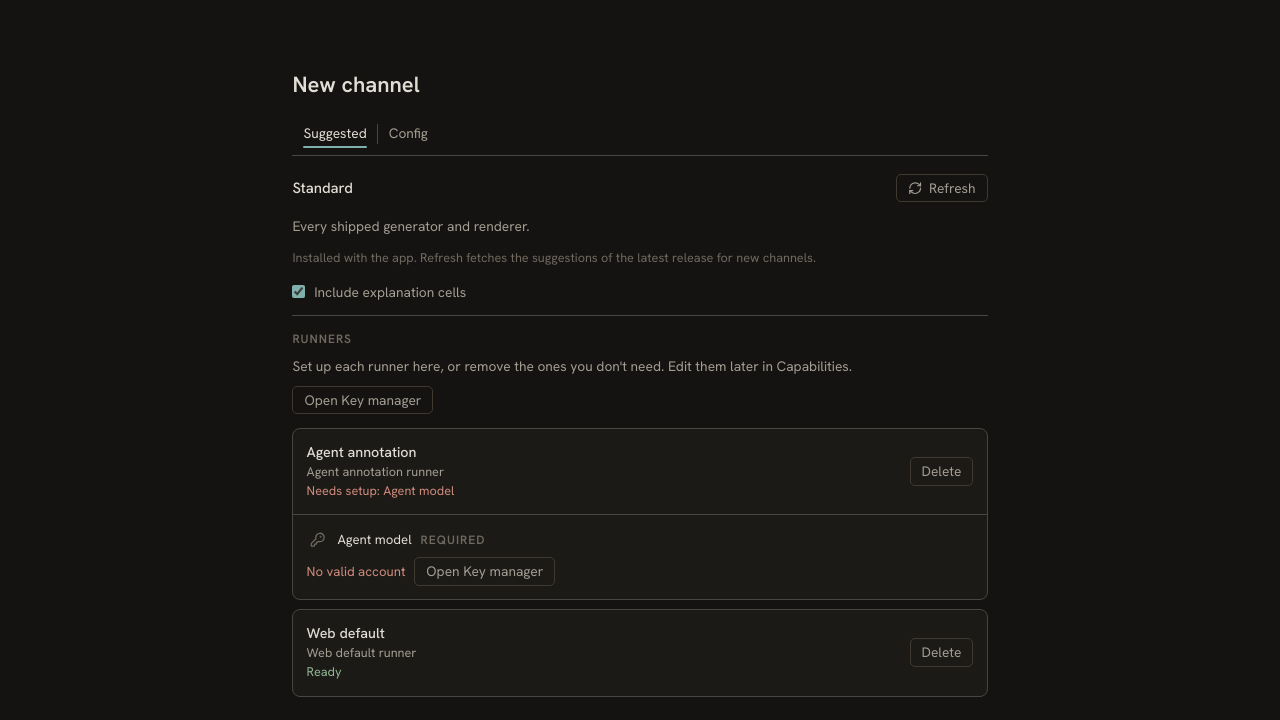
it: New channel: Suggested › reads the catalog from a folder, keeps that row while it does, and stops using it
Expected: the text "Agent annotation" is shown, [307,443,416,461]
Press Space in the button "Refresh", box [896,174,988,202]
Wait 5000 ms
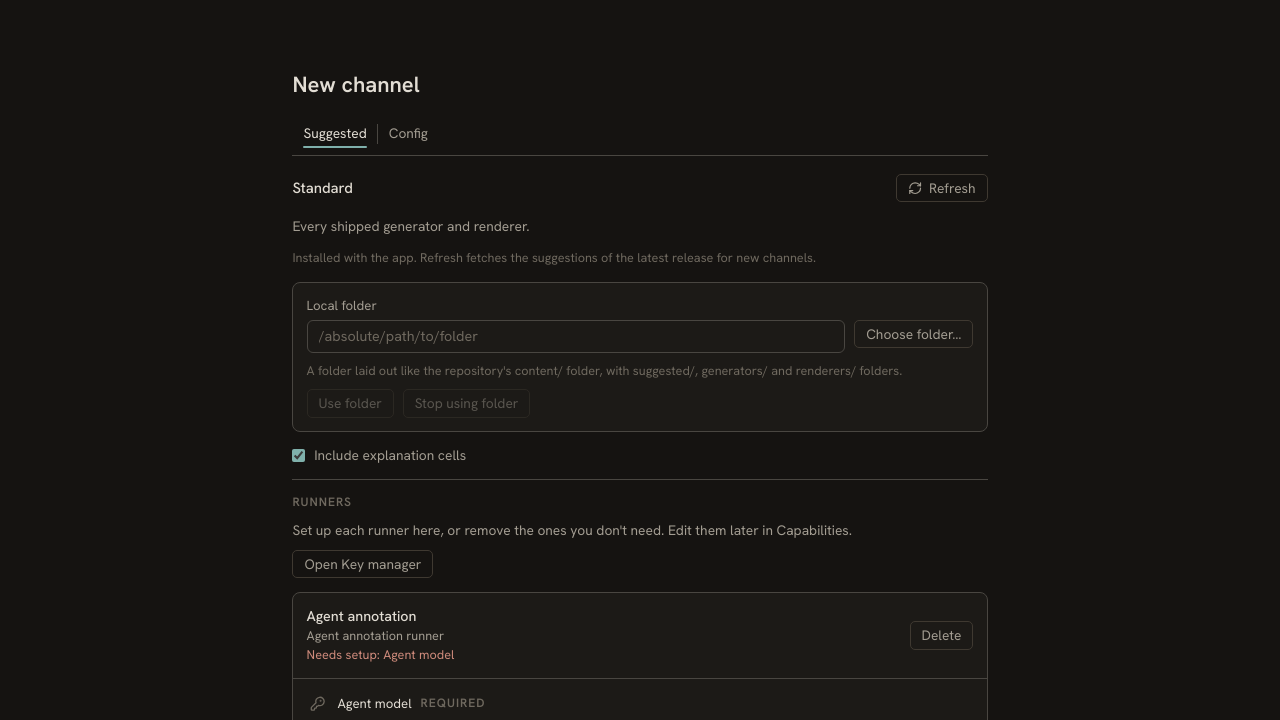
Expected: the button "Use folder" is disabled, [307,390,394,418]
Click the button "Choose folder…" at x=914, y=334, box [854,320,973,348]
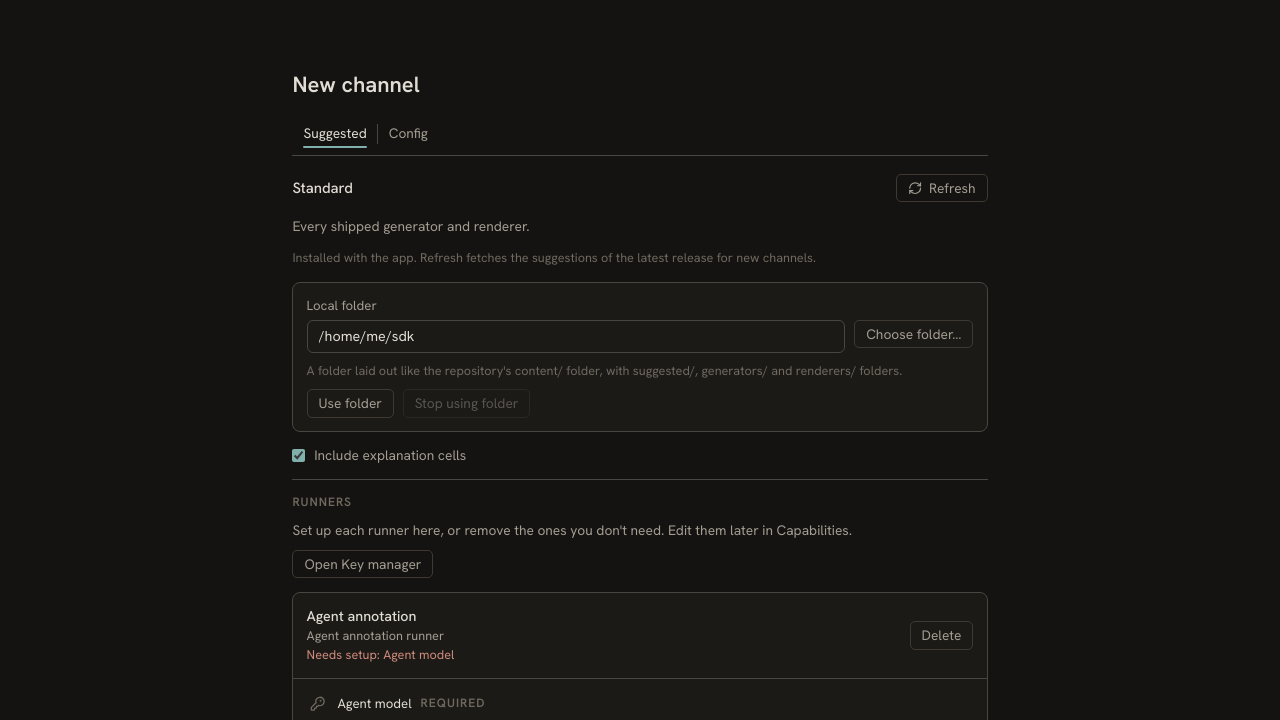
Expected: the field labelled "Local folder" holds "/home/me/sdk", [307,320,845,353]
Click the button "Use folder" at x=350, y=404, box [307,390,394,418]
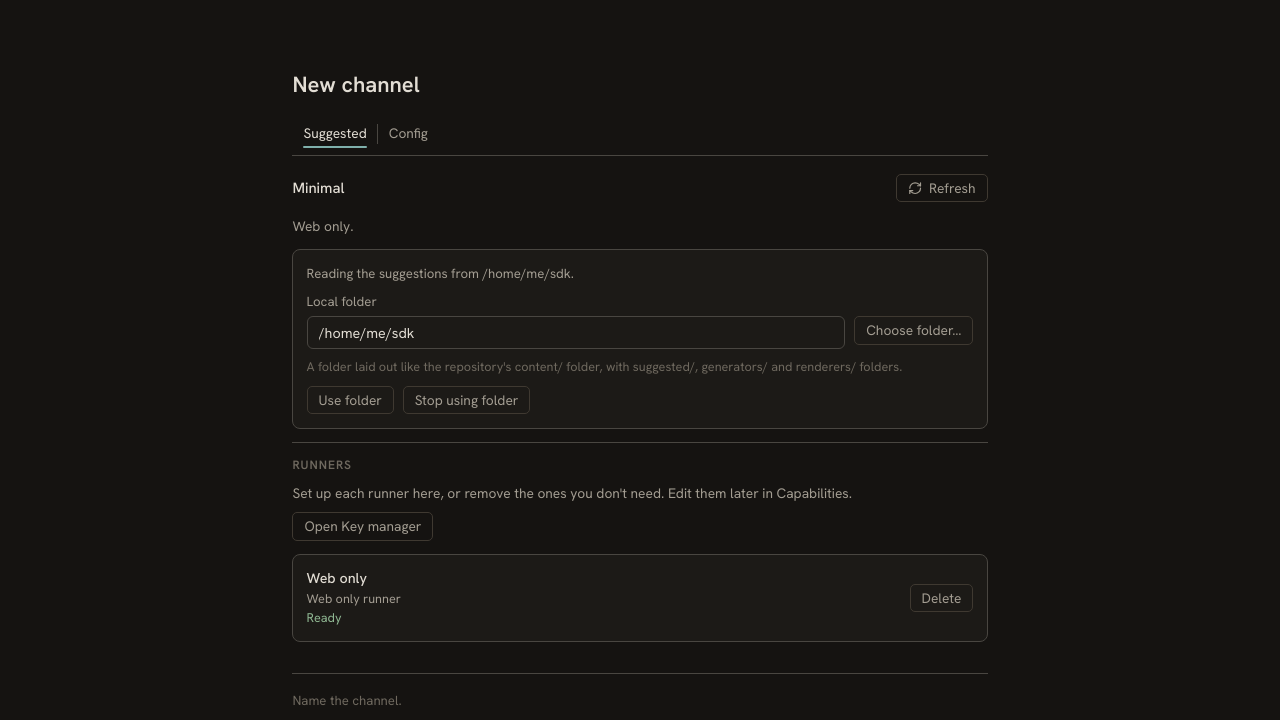
Expected: the text "Web only" is shown, [307,569,367,587]
Expected: the text "Reading the suggestions from /home/me/sdk." is shown, [307,264,574,282]
Click the button "Stop using folder" at x=467, y=400, box [403,386,530,414]
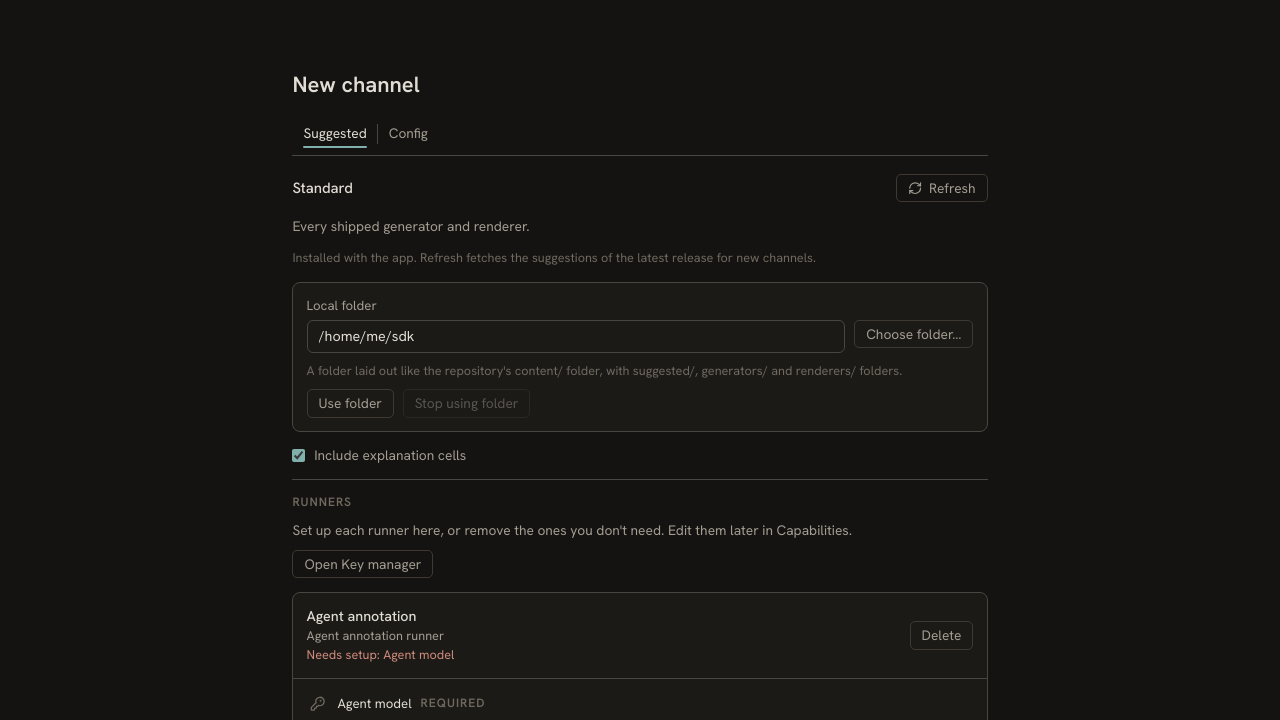
Expected: the text "Agent annotation" is shown, [307,607,416,625]
